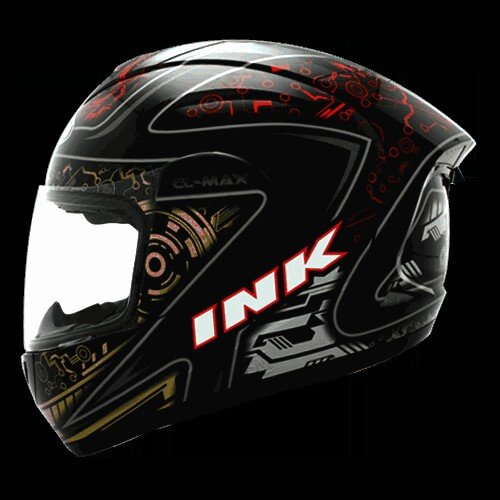with_helmet: (16, 23, 481, 461)
